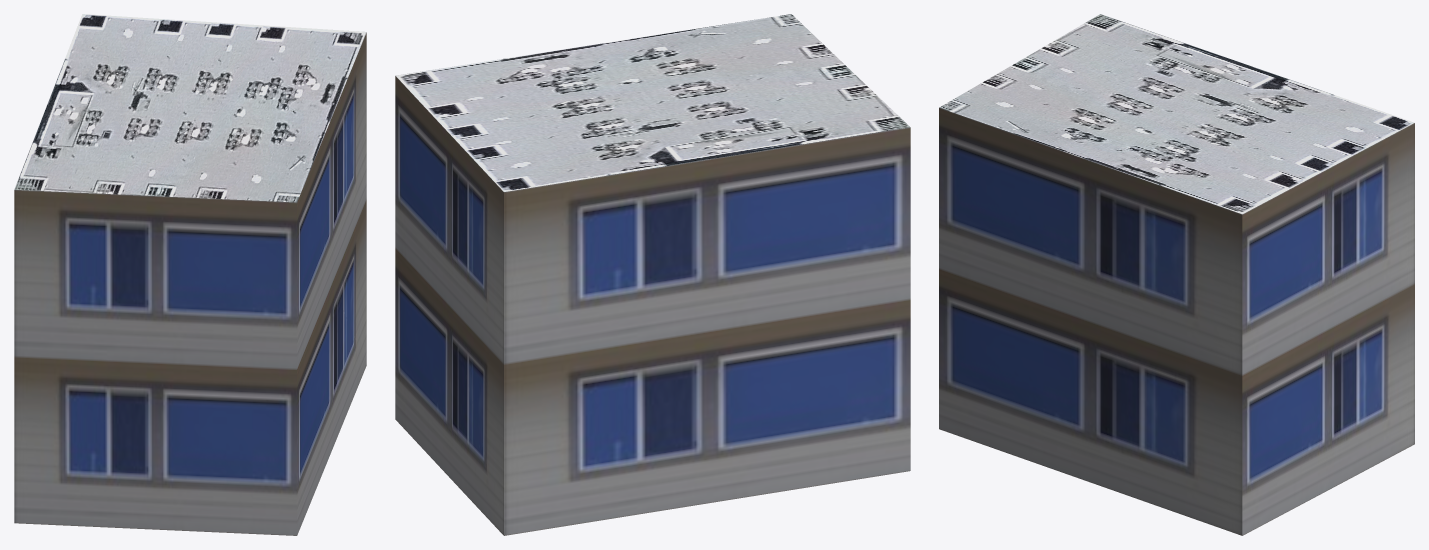
File: ResTex__1369.fbx
The picture shows the model from 3 angles, left to right: view 1: azimuth 30°, elevation 25°; view 2: azimuth 150°, elevation 25°; view 3: azimuth 270°, elevation 25°; orthographic projection. The views are drawn at different scales.
Parts seen in each view (by area): view 1: CityEngineMaterial_23_m, CityEngineMaterial_2_m; view 2: CityEngineMaterial_23_m, CityEngineMaterial_2_m; view 3: CityEngineMaterial_23_m, CityEngineMaterial_2_m.
Part boxes in pixels (x1,y1,x2,y2): CityEngineMaterial_23_m: (14,33,366,535); CityEngineMaterial_2_m: (14,14,366,202); CityEngineMaterial_23_m: (395,76,910,535); CityEngineMaterial_2_m: (396,14,910,191); CityEngineMaterial_23_m: (939,108,1414,535); CityEngineMaterial_2_m: (939,14,1414,214).
Bounding box in the file's own units: 8.02 × 6 × 8.05.
2 materials, 2 textured.
